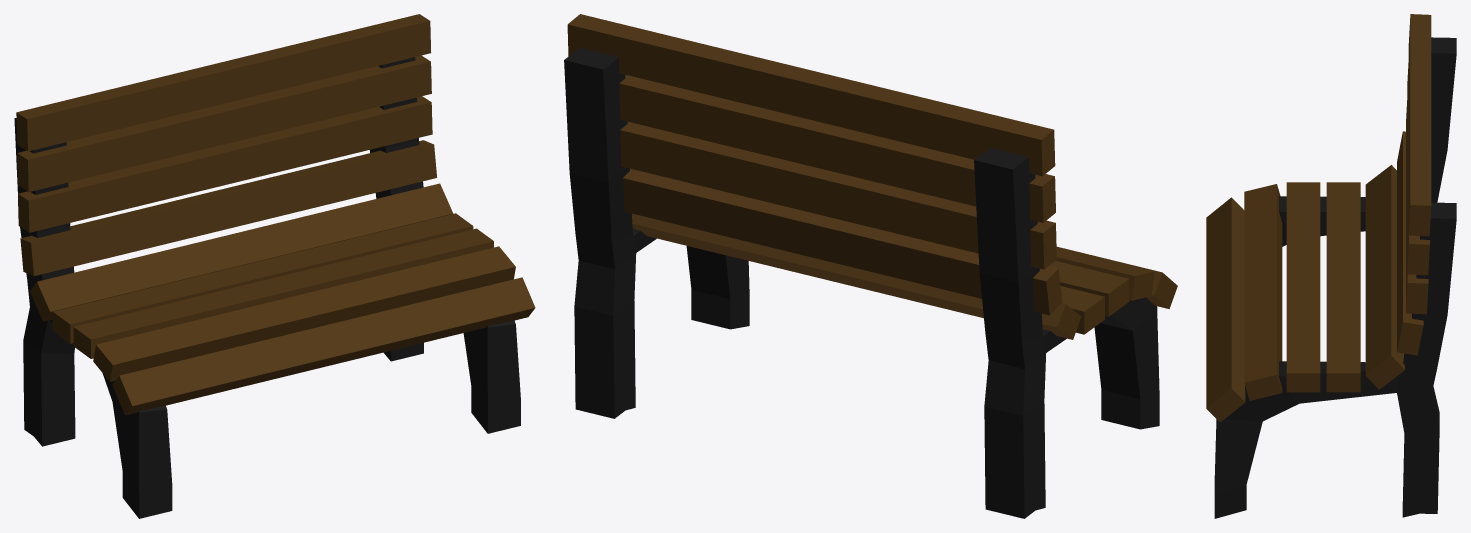
Rendered from Seat_01.fbx.
The picture shows the model from 3 angles, left to right: view 1: azimuth 30°, elevation 25°; view 2: azimuth 150°, elevation 25°; view 3: azimuth 270°, elevation 25°; orthographic projection. The views are drawn at different scales.
Parts seen in each view (by area): view 1: Cube.010; view 2: Cube.010; view 3: Cube.010.
Boxes of the visible parts, box(x1,y1,x2,y2) form: Cube.010: box(14, 14, 535, 518); Cube.010: box(564, 14, 1177, 518); Cube.010: box(1206, 14, 1456, 518).
Size of the model in its own units: 308 by 240 by 171.
